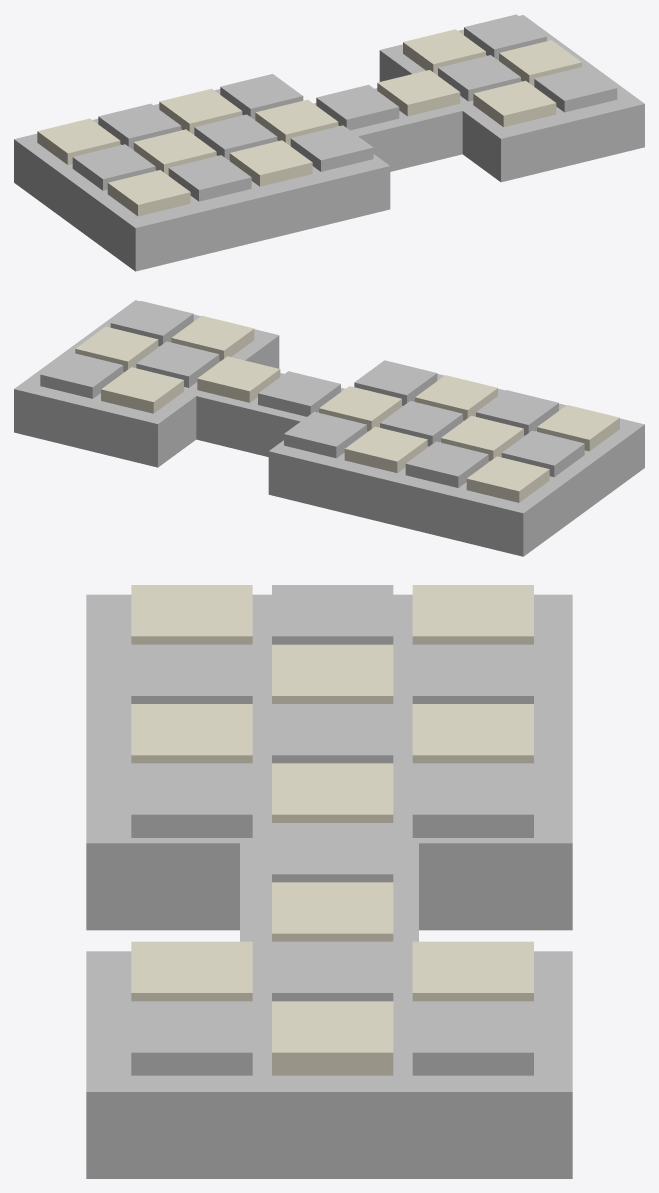
Rendered from game_of_ur.obj.
3 renders of one model, top to bottom at view 1: azimuth 30°, elevation 25°; view 2: azimuth 150°, elevation 25°; view 3: azimuth 270°, elevation 25°, orthographic. The views are drawn at different scales.
Visible parts, largest first — view 1: game_of_ur; view 2: game_of_ur; view 3: game_of_ur.
Part boxes in pixels (x1,y1,x2,y2): game_of_ur: [14, 14, 644, 271]; game_of_ur: [14, 300, 644, 556]; game_of_ur: [86, 585, 572, 1178].
Size of the model in its own units: 0.92 by 0.095 by 0.38.
